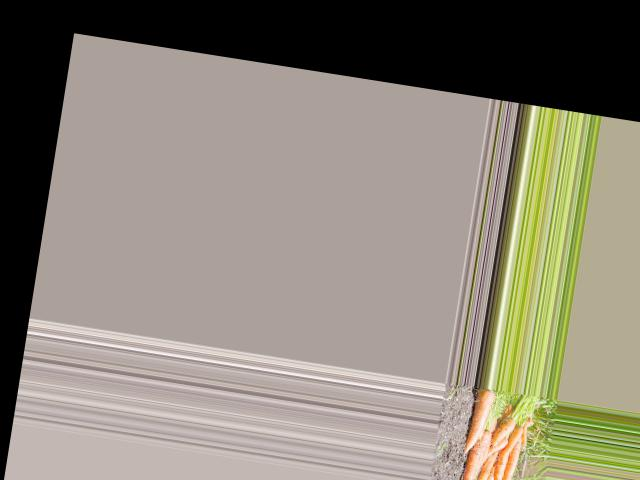carrot: (491, 421, 523, 480)
